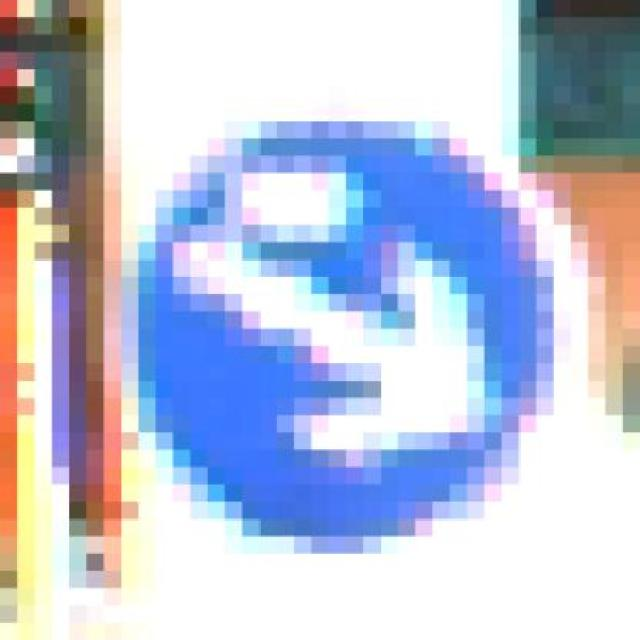Keep-Right: (120, 103, 572, 554)
